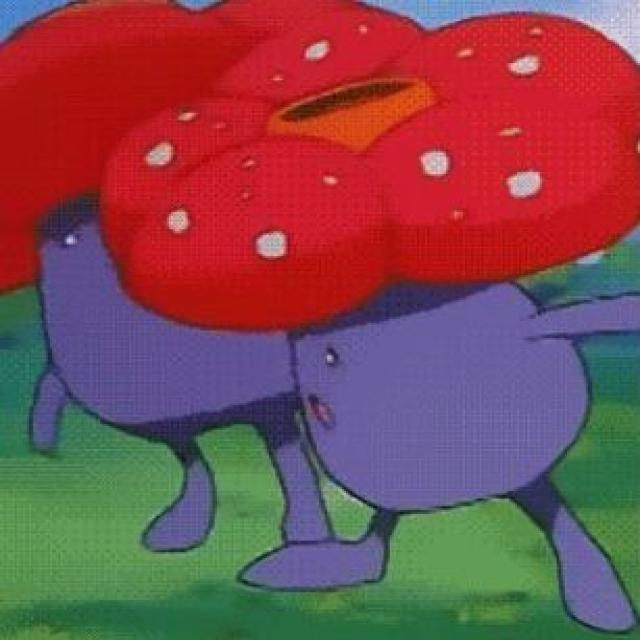Vileplume: (229, 38, 583, 584)
